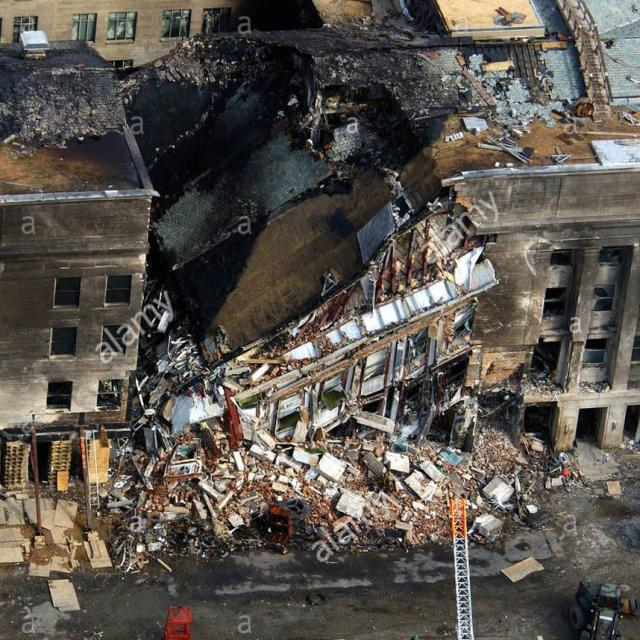collapsed_building: (132, 35, 482, 538)
